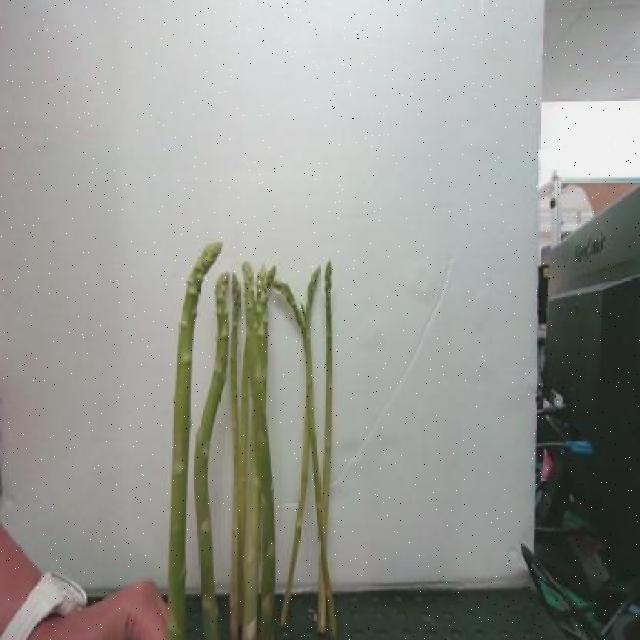aspargus: (167, 243, 221, 639), (191, 269, 231, 640)
